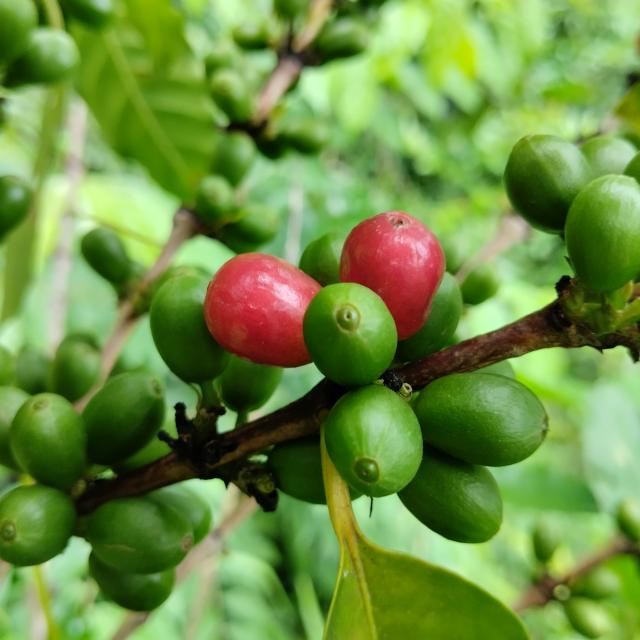green: (414, 372, 549, 467), (324, 385, 423, 498), (398, 445, 503, 544), (303, 283, 398, 386), (504, 134, 594, 234), (149, 274, 230, 384), (565, 174, 640, 292), (86, 498, 194, 575), (81, 371, 165, 466), (9, 393, 86, 491), (0, 485, 76, 567), (396, 272, 463, 362), (267, 436, 326, 505), (220, 355, 283, 413), (299, 232, 346, 287), (581, 136, 639, 178), (475, 360, 516, 379)
red: (340, 210, 446, 340), (203, 252, 321, 368)
